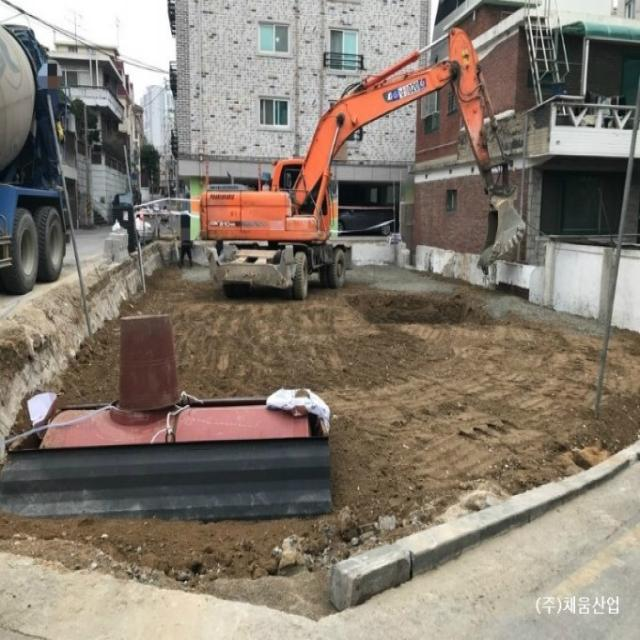basin: (120, 313, 180, 409)
excavator: (200, 28, 526, 300)
mixed: (0, 22, 71, 292)
